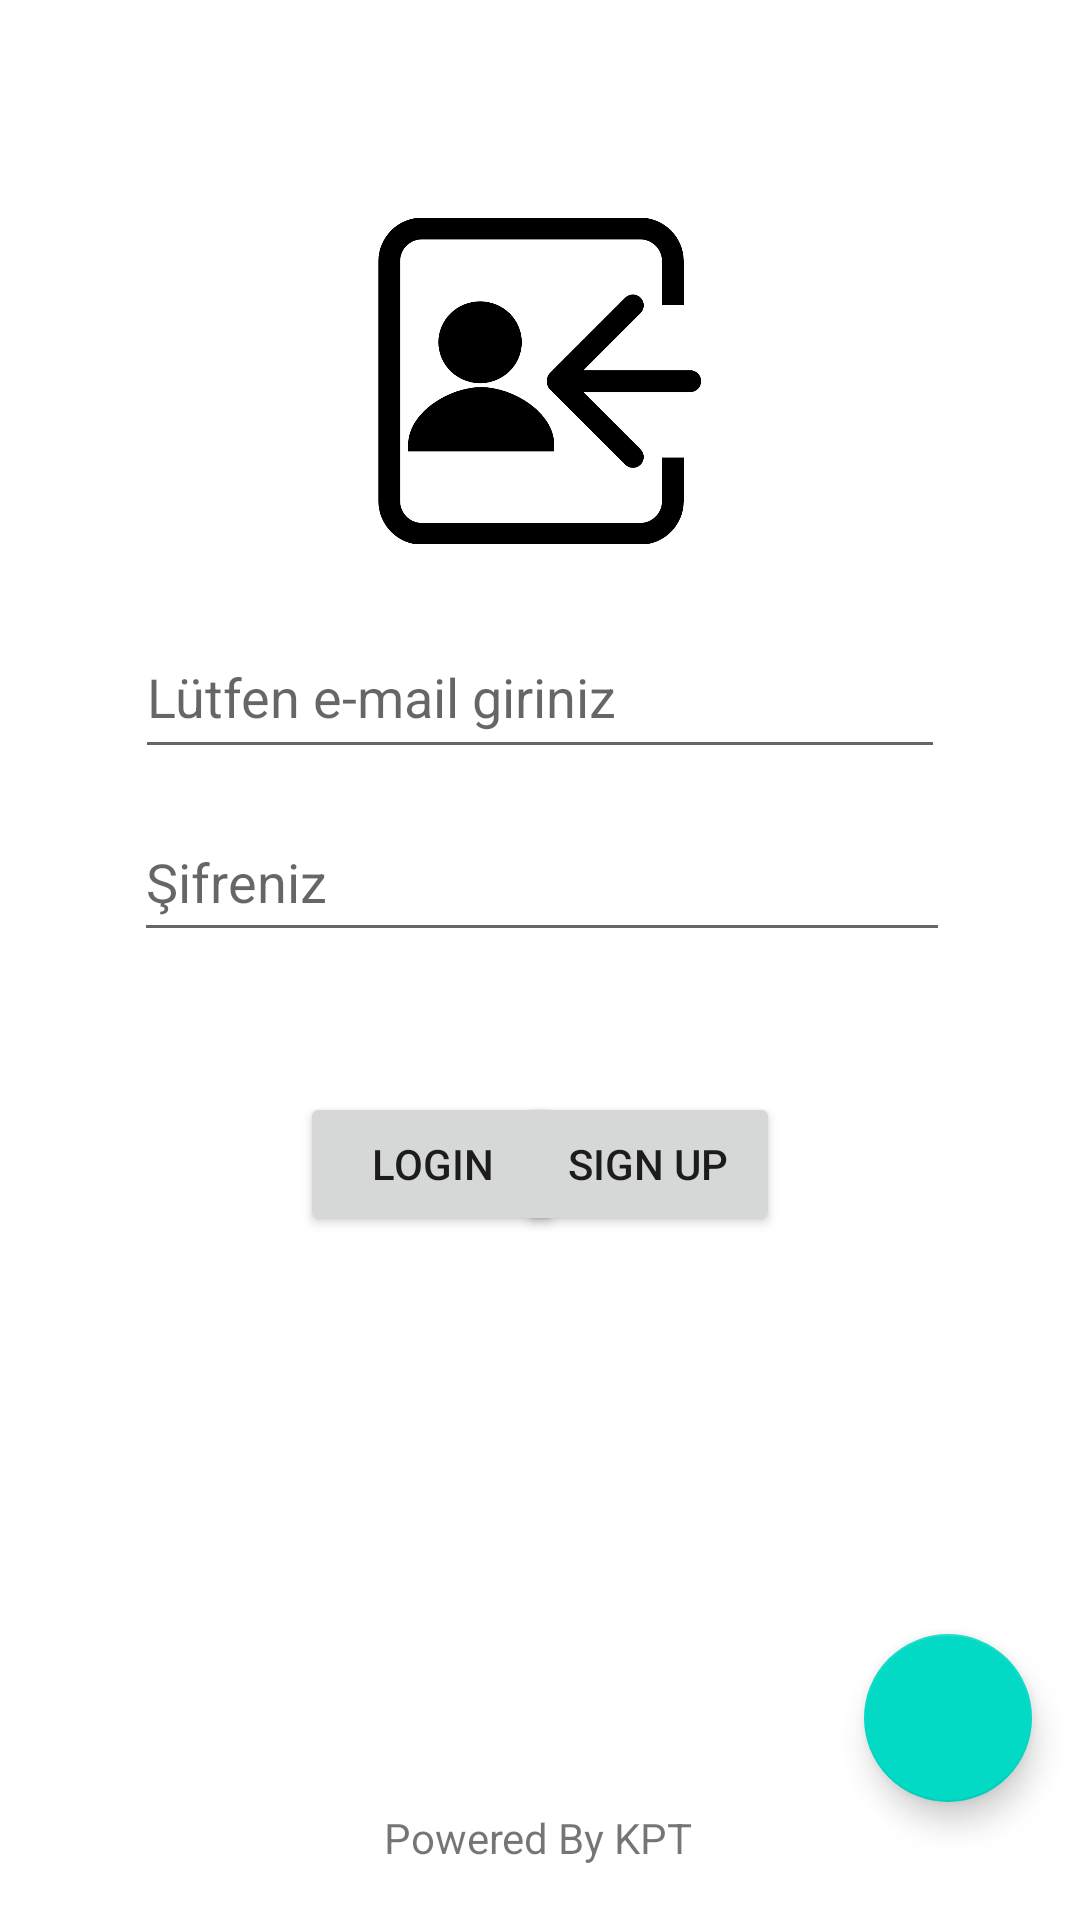

Icon click points for this 1080*1920 phone screenshot, format [x,y]:
login: [539,381]
